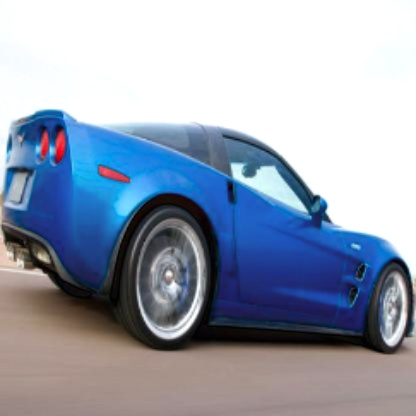Vehicle: (1, 100, 415, 362)
